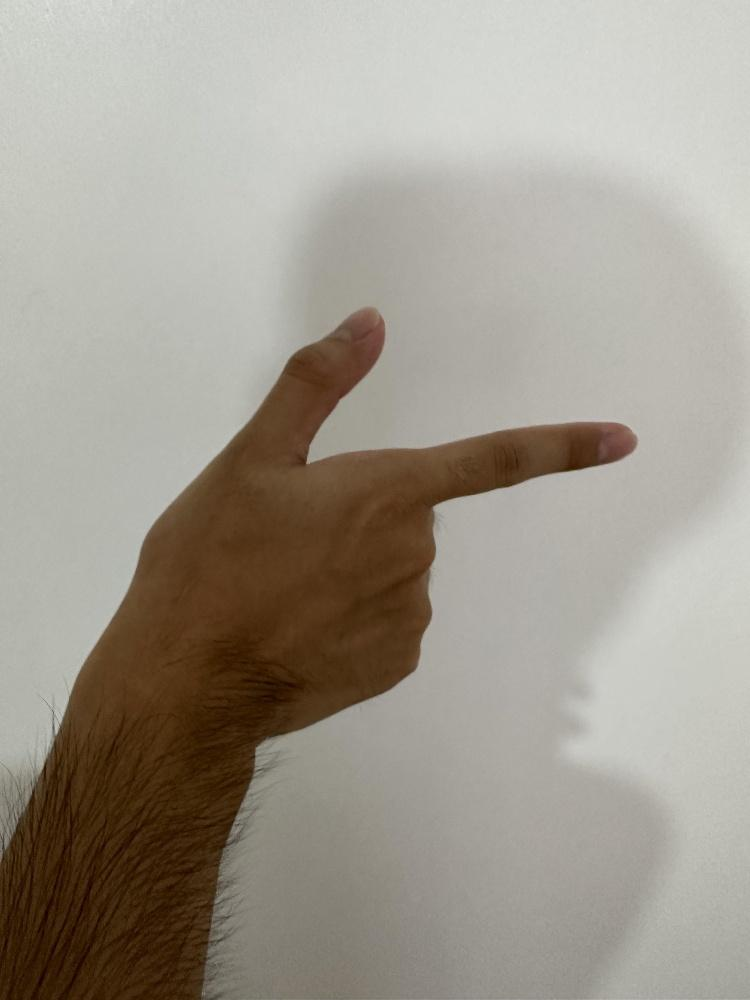g: (134, 301, 640, 747)
